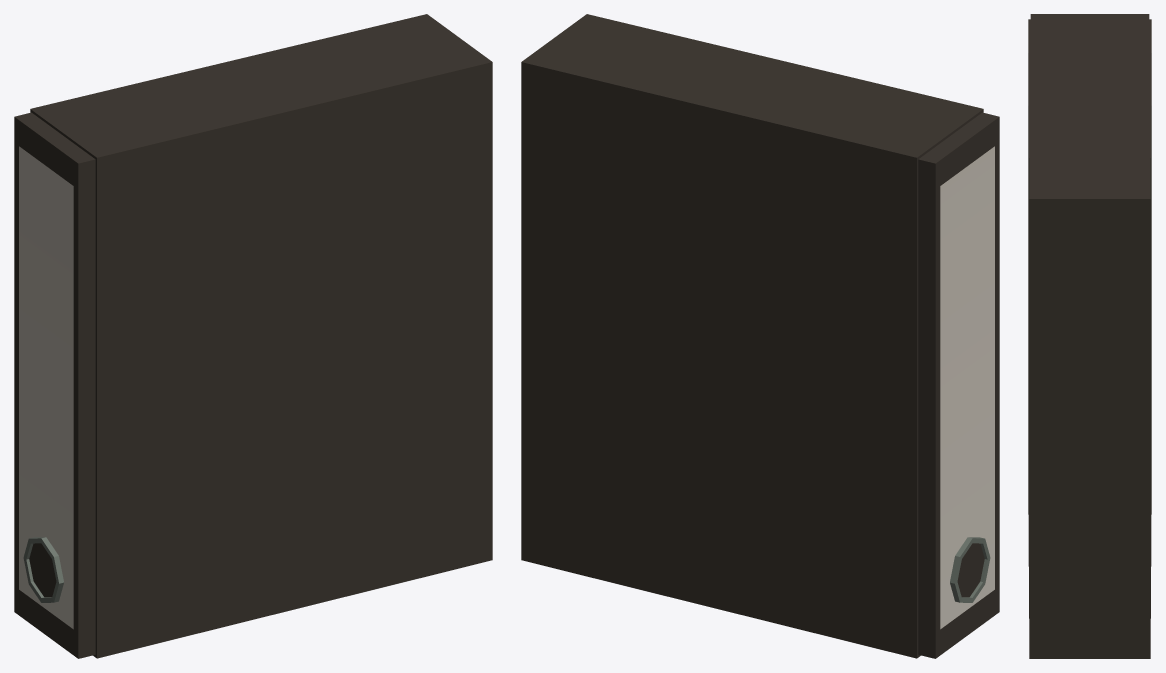
File: SM_CarpesanoNegro.fbx
The picture shows the model from 3 angles, left to right: view 1: azimuth 30°, elevation 25°; view 2: azimuth 150°, elevation 25°; view 3: azimuth 270°, elevation 25°; orthographic projection. The views are drawn at different scales.
Parts seen in each view (by area): view 1: Cube, Cylinder; view 2: Cube, Cylinder; view 3: Cube.
Part boxes in pixels (x1,y1,x2,y2): Cube: (14, 14, 492, 658); Cylinder: (23, 537, 63, 602); Cube: (521, 14, 999, 658); Cylinder: (950, 537, 990, 602); Cube: (1028, 14, 1151, 658).
Size of the model in its own units: 32.93 by 37.65 by 9.11.
